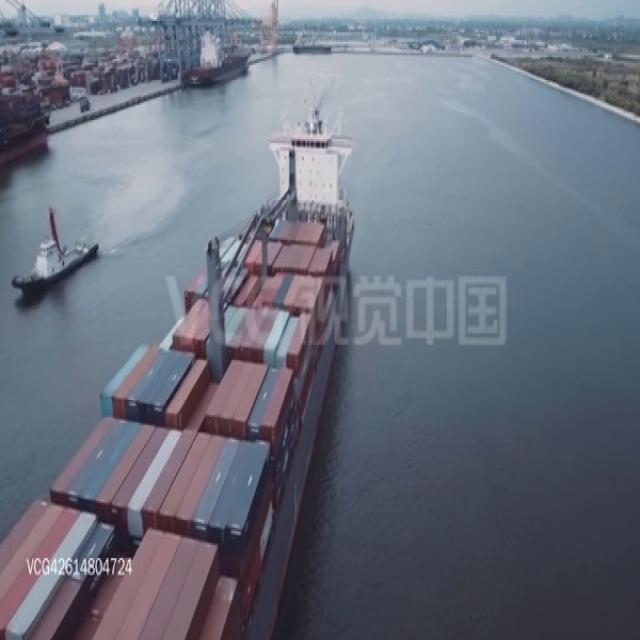cargoship: (0, 99, 353, 640)
houseboat: (11, 204, 101, 296)
